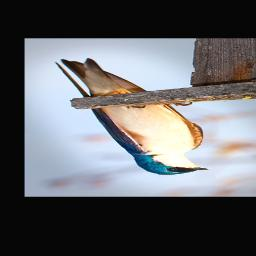Swallow: (53, 58, 210, 176)
